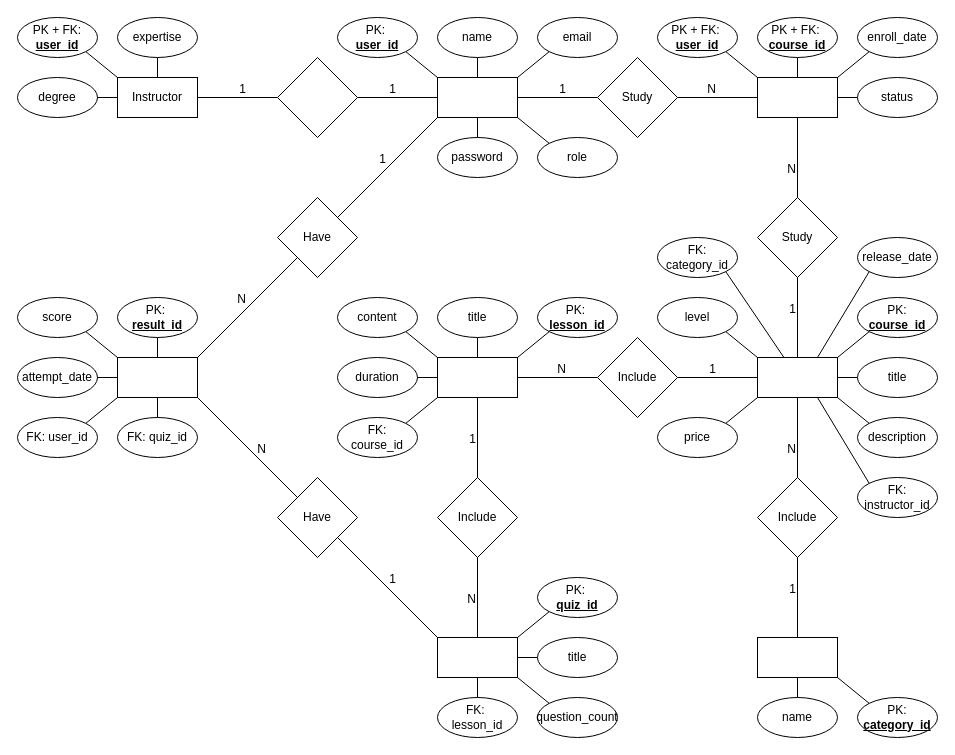
The diagram is 955 pixels wide and 755 high, and some of its shapes have lost their labels. Here are the shapes that lost their labels. From the top down, the centre of each, then its label:
point 317,97: Sub
point 477,97: User
point 797,97: Enrollment
point 157,377: Result
point 477,377: Lesson
point 797,377: Course
point 477,657: Quiz
point 797,657: Category
